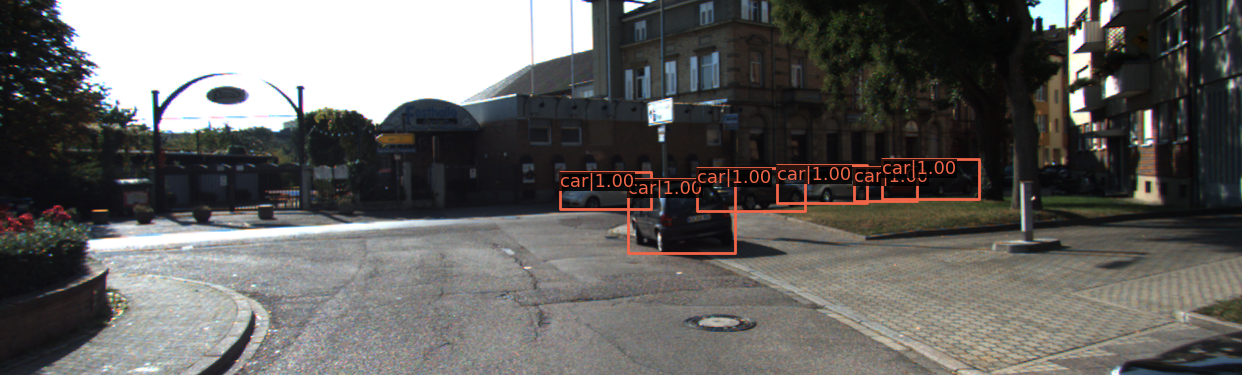car: (1066, 205, 1242, 375), (629, 181, 736, 251), (704, 170, 804, 213), (559, 173, 647, 211), (781, 168, 867, 206), (899, 160, 975, 196), (857, 169, 920, 200)
